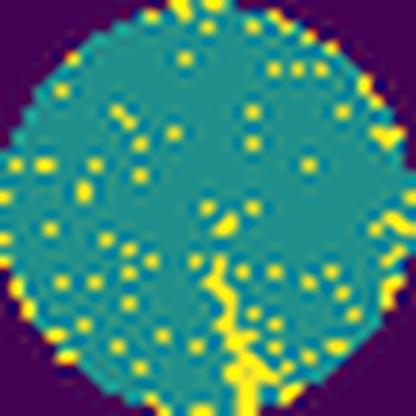Scratch: (198, 251, 281, 416)
